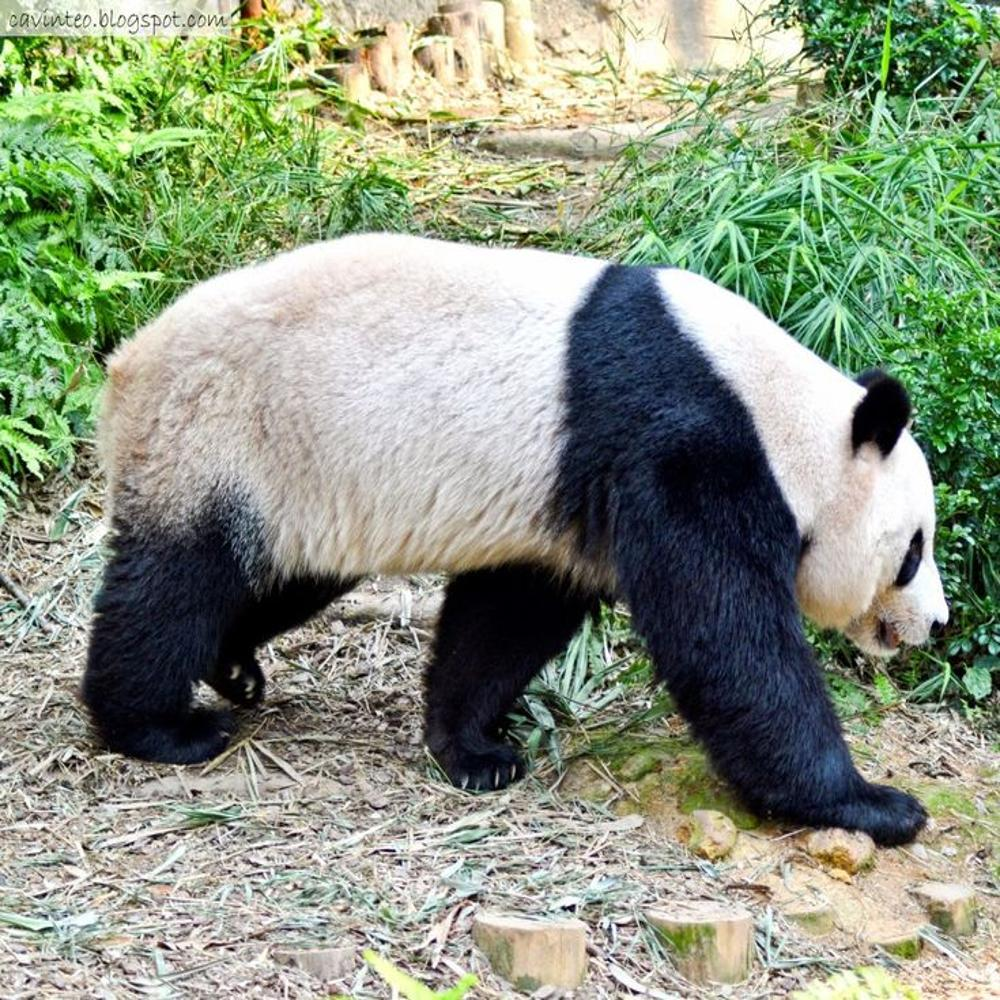panda: (70, 222, 951, 864)
